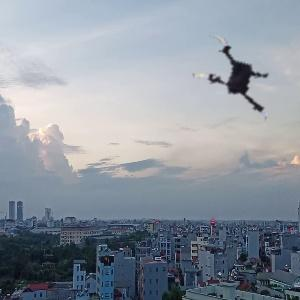drone: (179, 29, 284, 134)
